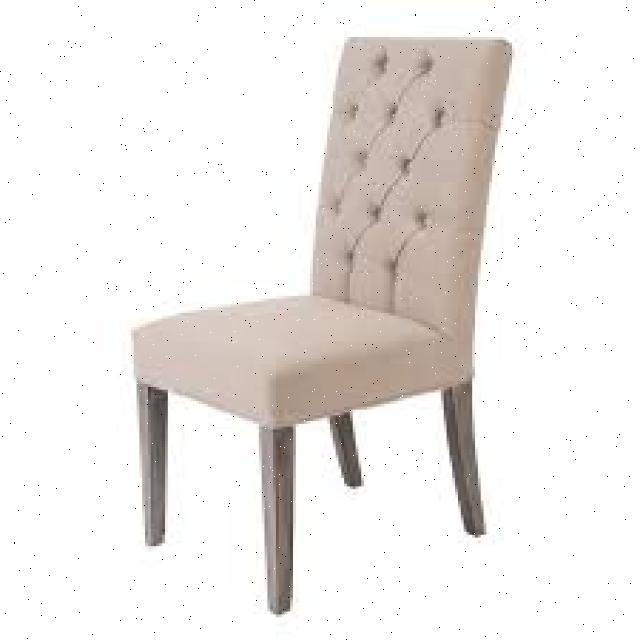bottle: (134, 29, 514, 615)
